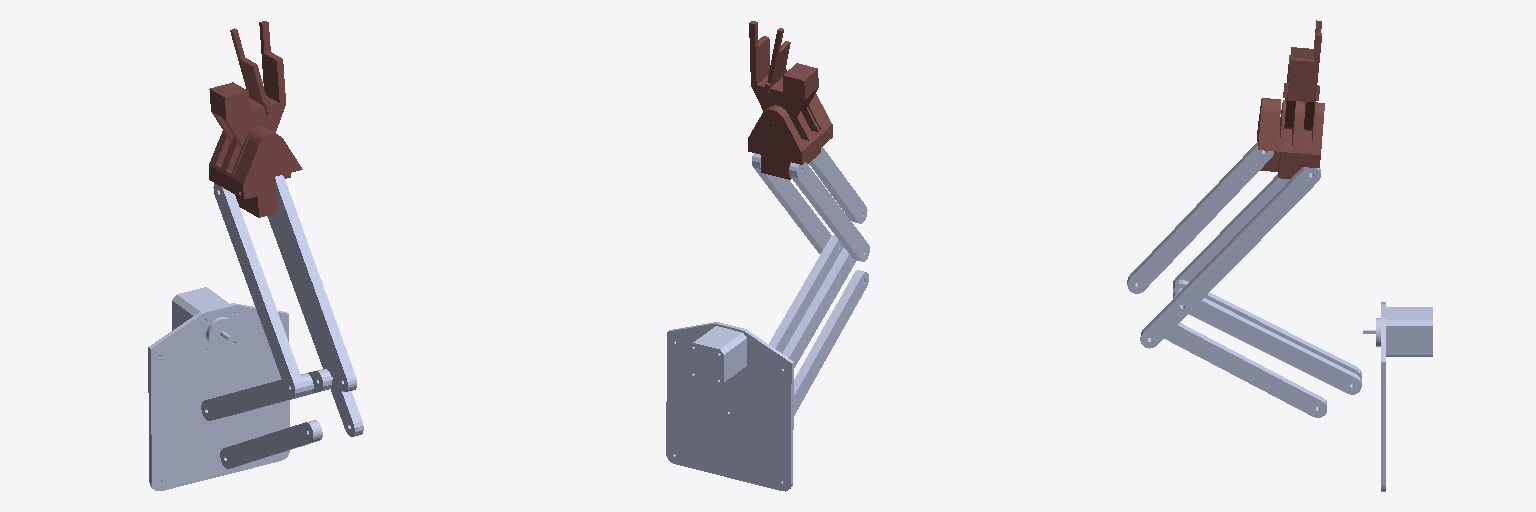
The robot description file, URDF, robot "ARM.SLDASM":
<?xml version="1.0" encoding="utf-8"?>
<!-- This URDF was automatically created by SolidWorks to URDF Exporter! Originally created by [author] ([email redacted]) 
     Commit Version: 1.6.0-4-g7f85cfe  Build Version: 1.6.7995.38578
     For more information, please see http://wiki.ros.org/sw_urdf_exporter -->
<robot
  name="ARM.SLDASM">
  <link
    name="base_link">
    <inertial>
      <origin
        xyz="0.065744341564924 0.0494910882181169 -0.045216580467112"
        rpy="0 0 0" />
      <mass
        value="0.207046380810351" />
      <inertia
        ixx="0.000296100160478882"
        ixy="4.14810054064923E-07"
        ixz="2.9650972706571E-09"
        iyy="0.000248571256331813"
        iyz="2.58760118757551E-11"
        izz="0.000510587496763238" />
    </inertial>
    <visual>
      <origin
        xyz="0 0 0"
        rpy="0 0 0" />
      <geometry>
        <mesh
          filename="package://ARM.SLDASM/meshes/base_link.STL" />
      </geometry>
      <material
        name="">
        <color
          rgba="0.792156862745098 0.819607843137255 0.933333333333333 1" />
      </material>
    </visual>
    <collision>
      <origin
        xyz="0 0 0"
        rpy="0 0 0" />
      <geometry>
        <mesh
          filename="package://ARM.SLDASM/meshes/base_link.STL" />
      </geometry>
    </collision>
  </link>
  <link
    name="Turning_base">
    <inertial>
      <origin
        xyz="-0.0267697026327348 0.00488148698796461 0.0222183347728628"
        rpy="0 0 0" />
      <mass
        value="0.19237125582213" />
      <inertia
        ixx="0.000135901413995399"
        ixy="-1.33820761853295E-06"
        ixz="2.84315818360693E-06"
        iyy="0.000156555561267971"
        iyz="2.6996128156746E-06"
        izz="0.000197919660234674" />
    </inertial>
    <visual>
      <origin
        xyz="0 0 0"
        rpy="0 0 0" />
      <geometry>
        <mesh
          filename="package://ARM.SLDASM/meshes/Turning_base.STL" />
      </geometry>
      <material
        name="">
        <color
          rgba="0.792156862745098 0.819607843137255 0.933333333333333 1" />
      </material>
    </visual>
    <collision>
      <origin
        xyz="0 0 0"
        rpy="0 0 0" />
      <geometry>
        <mesh
          filename="package://ARM.SLDASM/meshes/Turning_base.STL" />
      </geometry>
    </collision>
  </link>
  <joint
    name="J1"
    type="revolute">
    <origin
      xyz="0.06605 0.032302 0.014542"
      rpy="1.5708 -0.0040186 0" />
    <parent
      link="base_link" />
    <child
      link="Turning_base" />
    <axis
      xyz="0 0 -1" />
    <limit
      lower="0"
      upper="6.28"
      effort="0"
      velocity="0" />
  </joint>
  <link
    name="Lower_Backlink">
    <inertial>
      <origin
        xyz="0.0414635494994407 3.46944695195361E-18 0.00499999999999998"
        rpy="0 0 0" />
      <mass
        value="0.0193744467859455" />
      <inertia
        ixx="8.00416835228506E-07"
        ixy="-9.52912065661088E-22"
        ixz="4.55815036554347E-21"
        iyy="1.54913654040111E-05"
        iyz="1.31132591327248E-22"
        izz="1.59688747928072E-05" />
    </inertial>
    <visual>
      <origin
        xyz="0 0 0"
        rpy="0 0 0" />
      <geometry>
        <mesh
          filename="package://ARM.SLDASM/meshes/Lower_Backlink.STL" />
      </geometry>
      <material
        name="">
        <color
          rgba="0.792156862745098 0.819607843137255 0.933333333333333 1" />
      </material>
    </visual>
    <collision>
      <origin
        xyz="0 0 0"
        rpy="0 0 0" />
      <geometry>
        <mesh
          filename="package://ARM.SLDASM/meshes/Lower_Backlink.STL" />
      </geometry>
    </collision>
  </link>
  <joint
    name="J2"
    type="continuous">
    <origin
      xyz="-0.0225 -0.022855 0.065355"
      rpy="-1.5708 -1.046 1.5708" />
    <parent
      link="Turning_base" />
    <child
      link="Lower_Backlink" />
    <axis
      xyz="0 0 -1" />
  </joint>
  <link
    name="Link1">
    <inertial>
      <origin
        xyz="-5.21804821573824E-15 0.00500000000000492 -0.00999999999999942"
        rpy="0 0 0" />
      <mass
        value="0.085573794051045" />
      <inertia
        ixx="0.000328606447348668"
        ixy="1.45960717470861E-17"
        ixz="3.74845624985551E-22"
        iyy="3.53584860057504E-06"
        iyz="-2.1588614126044E-16"
        izz="0.000330716066048393" />
    </inertial>
    <visual>
      <origin
        xyz="0 0 0"
        rpy="0 0 0" />
      <geometry>
        <mesh
          filename="package://ARM.SLDASM/meshes/Link1.STL" />
      </geometry>
      <material
        name="">
        <color
          rgba="0.792156862745098 0.819607843137255 0.933333333333333 1" />
      </material>
    </visual>
    <collision>
      <origin
        xyz="0 0 0"
        rpy="0 0 0" />
      <geometry>
        <mesh
          filename="package://ARM.SLDASM/meshes/Link1.STL" />
      </geometry>
    </collision>
  </link>
  <joint
    name="J3"
    type="revolute">
    <origin
      xyz="-0.0275 0.058501 0.11312"
      rpy="1.5708 -0.50547 -1.5708" />
    <parent
      link="Turning_base" />
    <child
      link="Link1" />
    <axis
      xyz="0 0 -1" />
    <limit
      lower="0"
      upper="6.28"
      effort="0"
      velocity="0" />
  </joint>
  <link
    name="triangle">
    <inertial>
      <origin
        xyz="0.0128671162531901 0.0149668569116931 0.005"
        rpy="0 0 0" />
      <mass
        value="0.0191246861766035" />
      <inertia
        ixx="5.62289539865076E-06"
        ixy="2.73395813990835E-06"
        ixz="-1.63798820454671E-21"
        iyy="4.65318566936926E-06"
        iyz="1.77309574594121E-21"
        izz="9.95733629840997E-06" />
    </inertial>
    <visual>
      <origin
        xyz="0 0 0"
        rpy="0 0 0" />
      <geometry>
        <mesh
          filename="package://ARM.SLDASM/meshes/triangle.STL" />
      </geometry>
      <material
        name="">
        <color
          rgba="0.792156862745098 0.819607843137255 0.933333333333333 1" />
      </material>
    </visual>
    <collision>
      <origin
        xyz="0 0 0"
        rpy="0 0 0" />
      <geometry>
        <mesh
          filename="package://ARM.SLDASM/meshes/triangle.STL" />
      </geometry>
    </collision>
  </link>
  <joint
    name="J4"
    type="continuous">
    <origin
      xyz="0 0.105 -0.015"
      rpy="0 0 -0.13866" />
    <parent
      link="Link1" />
    <child
      link="triangle" />
    <axis
      xyz="0 0 1" />
  </joint>
  <link
    name="Upper_backlink">
    <inertial>
      <origin
        xyz="0.0414635494994406 1.07552855510562E-15 0.005"
        rpy="0 0 0" />
      <mass
        value="0.0193744467859455" />
      <inertia
        ixx="8.00416835228508E-07"
        ixy="4.2351647362715E-22"
        ixz="2.85427484424913E-21"
        iyy="1.54913654040111E-05"
        iyz="-5.92136022624789E-23"
        izz="1.59688747928072E-05" />
    </inertial>
    <visual>
      <origin
        xyz="0 0 0"
        rpy="0 0 0" />
      <geometry>
        <mesh
          filename="package://ARM.SLDASM/meshes/Upper_backlink.STL" />
      </geometry>
      <material
        name="">
        <color
          rgba="0.792156862745098 0.819607843137255 0.933333333333333 1" />
      </material>
    </visual>
    <collision>
      <origin
        xyz="0 0 0"
        rpy="0 0 0" />
      <geometry>
        <mesh
          filename="package://ARM.SLDASM/meshes/Upper_backlink.STL" />
      </geometry>
    </collision>
  </link>
  <joint
    name="J5"
    type="continuous">
    <origin
      xyz="0.045 0 0.02"
      rpy="-3.1416 0 -1.4128" />
    <parent
      link="triangle" />
    <child
      link="Upper_backlink" />
    <axis
      xyz="0 0 -1" />
  </joint>
  <link
    name="Upper_frontlink">
    <inertial>
      <origin
        xyz="0.0463904561233755 -6.26720897400901E-14 7.99429966669152E-14"
        rpy="0 0 0" />
      <mass
        value="0.0214124502395769" />
      <inertia
        ixx="8.8417413172566E-07"
        ixy="-2.26124180296804E-17"
        ixz="3.03487084681567E-17"
        iyy="2.08029877158262E-05"
        iyz="4.03015371553792E-22"
        izz="2.13302876768922E-05" />
    </inertial>
    <visual>
      <origin
        xyz="0 0 0"
        rpy="0 0 0" />
      <geometry>
        <mesh
          filename="package://ARM.SLDASM/meshes/Upper_frontlink.STL" />
      </geometry>
      <material
        name="">
        <color
          rgba="0.792156862745098 0.819607843137255 0.933333333333333 1" />
      </material>
    </visual>
    <collision>
      <origin
        xyz="0 0 0"
        rpy="0 0 0" />
      <geometry>
        <mesh
          filename="package://ARM.SLDASM/meshes/Upper_frontlink.STL" />
      </geometry>
    </collision>
  </link>
  <joint
    name="J6"
    type="continuous">
    <origin
      xyz="0 0.05 -0.005"
      rpy="-3.1416 0 -2.7921" />
    <parent
      link="triangle" />
    <child
      link="Upper_frontlink" />
    <axis
      xyz="0 0 -1" />
  </joint>
  <link
    name="Link2">
    <inertial>
      <origin
        xyz="4.44089209850063E-16 0.0186657789906809 0.0247054628952011"
        rpy="0 0 0" />
      <mass
        value="0.0953394410565643" />
      <inertia
        ixx="0.000470411650298866"
        ixy="3.36399135002045E-18"
        ixz="-2.06366020526793E-21"
        iyy="3.95014826174653E-06"
        iyz="-3.0937247350164E-16"
        izz="0.000472772807876336" />
    </inertial>
    <visual>
      <origin
        xyz="0 0 0"
        rpy="0 0 0" />
      <geometry>
        <mesh
          filename="package://ARM.SLDASM/meshes/Link2.STL" />
      </geometry>
      <material
        name="">
        <color
          rgba="0.792156862745098 0.819607843137255 0.933333333333333 1" />
      </material>
    </visual>
    <collision>
      <origin
        xyz="0 0 0"
        rpy="0 0 0" />
      <geometry>
        <mesh
          filename="package://ARM.SLDASM/meshes/Link2.STL" />
      </geometry>
    </collision>
  </link>
  <joint
    name="J7"
    type="revolute">
    <origin
      xyz="-0.10241 0.081825 0.01"
      rpy="3.1416 0 1.7933" />
    <parent
      link="Link1" />
    <child
      link="Link2" />
    <axis
      xyz="0 0 -1" />
    <limit
      lower="0"
      upper="6.28"
      effort="0"
      velocity="0" />
  </joint>
  <link
    name="Back_gripper">
    <inertial>
      <origin
        xyz="0.0289971473482062 0.0314301160957162 0.00141734074678128"
        rpy="0 0 0" />
      <mass
        value="1.53802958602338" />
      <inertia
        ixx="0.000909413538569684"
        ixy="8.2653399714243E-05"
        ixz="-2.76680034671545E-05"
        iyy="0.000912566548096114"
        iyz="-4.94357740447193E-05"
        izz="0.00115501581802408" />
    </inertial>
    <visual>
      <origin
        xyz="0 0 0"
        rpy="0 0 0" />
      <geometry>
        <mesh
          filename="package://ARM.SLDASM/meshes/Back_gripper.STL" />
      </geometry>
      <material
        name="">
        <color
          rgba="0.537254901960784 0.349019607843137 0.337254901960784 1" />
      </material>
    </visual>
    <collision>
      <origin
        xyz="0 0 0"
        rpy="0 0 0" />
      <geometry>
        <mesh
          filename="package://ARM.SLDASM/meshes/Back_gripper.STL" />
      </geometry>
    </collision>
  </link>
  <joint
    name="J8"
    type="continuous">
    <origin
      xyz="0.026092 -0.14287 0.022327"
      rpy="3.1416 0 2.2078" />
    <parent
      link="Link2" />
    <child
      link="Back_gripper" />
    <axis
      xyz="0 0 1" />
  </joint>
  <link
    name="Front_gripper">
    <inertial>
      <origin
        xyz="-0.000133634540354588 0.0283220187258271 0.015290063985935"
        rpy="0 0 0" />
      <mass
        value="0.558596679661737" />
      <inertia
        ixx="0.000309404274315498"
        ixy="-3.91459968046766E-05"
        ixz="3.65468624887358E-06"
        iyy="0.000256279098899188"
        iyz="8.07700601429682E-06"
        izz="0.00046459335100017" />
    </inertial>
    <visual>
      <origin
        xyz="0 0 0"
        rpy="0 0 0" />
      <geometry>
        <mesh
          filename="package://ARM.SLDASM/meshes/Front_gripper.STL" />
      </geometry>
      <material
        name="">
        <color
          rgba="0.537254901960784 0.349019607843137 0.337254901960784 1" />
      </material>
    </visual>
    <collision>
      <origin
        xyz="0 0 0"
        rpy="0 0 0" />
      <geometry>
        <mesh
          filename="package://ARM.SLDASM/meshes/Front_gripper.STL" />
      </geometry>
    </collision>
  </link>
  <joint
    name="J9"
    type="revolute">
    <origin
      xyz="0 0.01 0"
      rpy="1.5708 1.5515 -3.1416" />
    <parent
      link="Back_gripper" />
    <child
      link="Front_gripper" />
    <axis
      xyz="3.3649E-05 0 1" />
    <limit
      lower="0"
      upper="6.28"
      effort="0"
      velocity="0" />
  </joint>
  <link
    name="gripper">
    <inertial>
      <origin
        xyz="0.0309607104904639 -4.59355418676588E-05 0.0171444074906648"
        rpy="0 0 0" />
      <mass
        value="0.0686737389522784" />
      <inertia
        ixx="6.40644623542165E-06"
        ixy="-1.58915253529307E-10"
        ixz="3.10523081266725E-06"
        iyy="2.87092893917182E-05"
        iyz="3.68993537387662E-11"
        izz="2.25895985442529E-05" />
    </inertial>
    <visual>
      <origin
        xyz="0 0 0"
        rpy="0 0 0" />
      <geometry>
        <mesh
          filename="package://ARM.SLDASM/meshes/gripper.STL" />
      </geometry>
      <material
        name="">
        <color
          rgba="0.537254901960784 0.349019607843137 0.337254901960784 1" />
      </material>
    </visual>
    <collision>
      <origin
        xyz="0 0 0"
        rpy="0 0 0" />
      <geometry>
        <mesh
          filename="package://ARM.SLDASM/meshes/gripper.STL" />
      </geometry>
    </collision>
  </link>
  <joint
    name="J10"
    type="revolute">
    <origin
      xyz="0.012605 0.027445 -0.003"
      rpy="0 0 1.7772" />
    <parent
      link="Front_gripper" />
    <child
      link="gripper" />
    <axis
      xyz="0 3.28E-05 -1" />
    <limit
      lower="0"
      upper="6.28"
      effort="0"
      velocity="0" />
  </joint>
  <link
    name="lower_frontlink">
    <inertial>
      <origin
        xyz="0.0463904561233882 -6.08957329006898E-14 7.9956874454723E-14"
        rpy="0 0 0" />
      <mass
        value="0.0214124502395769" />
      <inertia
        ixx="8.84174131725664E-07"
        ixy="-2.25680017395088E-17"
        ixz="3.03403302313668E-17"
        iyy="2.08029877158262E-05"
        iyz="9.06223377333586E-23"
        izz="2.13302876768923E-05" />
    </inertial>
    <visual>
      <origin
        xyz="0 0 0"
        rpy="0 0 0" />
      <geometry>
        <mesh
          filename="package://ARM.SLDASM/meshes/lower_frontlink.STL" />
      </geometry>
      <material
        name="">
        <color
          rgba="0.792156862745098 0.819607843137255 0.933333333333333 1" />
      </material>
    </visual>
    <collision>
      <origin
        xyz="0 0 0"
        rpy="0 0 0" />
      <geometry>
        <mesh
          filename="package://ARM.SLDASM/meshes/lower_frontlink.STL" />
      </geometry>
    </collision>
  </link>
  <joint
    name="J11"
    type="continuous">
    <origin
      xyz="0.039 0.0575 -0.0074928"
      rpy="3.1416 0 0.62534" />
    <parent
      link="Back_gripper" />
    <child
      link="lower_frontlink" />
    <axis
      xyz="0 0 -1" />
  </joint>
</robot>

--- What the picture shows (computed from the rendered views, not written in the file) ---
The picture shows the robot from 3 angles, left to right: view 1: azimuth 30°, elevation 25°; view 2: azimuth 150°, elevation 25°; view 3: azimuth 270°, elevation 25°; orthographic projection.
Model ARM.SLDASM with 12 links and 11 joints (5 revolute, 6 continuous), rooted at base_link, posed all joints at 0.
Links seen in each view (by area): view 1: base_link, Link2, Back_gripper, Front_gripper, Link1, Upper_frontlink, lower_frontlink, Upper_backlink, gripper, Lower_Backlink; view 2: base_link, Link2, Back_gripper, Link1, Front_gripper, Upper_backlink, Upper_frontlink, Lower_Backlink, gripper; view 3: Link2, Link1, Back_gripper, base_link, Upper_frontlink, lower_frontlink, Lower_Backlink, Front_gripper, Upper_backlink.
Link boxes in pixels (x1,y1,x2,y2): base_link: (148,287,289,490); Link2: (213,183,363,436); Back_gripper: (209,127,302,217); Front_gripper: (209,21,285,148); Link1: (201,369,331,420); Upper_frontlink: (304,278,356,391); lower_frontlink: (275,175,319,286); Upper_backlink: (264,420,322,455); gripper: (230,28,272,115); Lower_Backlink: (220,436,272,468); base_link: (666,322,793,491); Link2: (752,153,869,261); Back_gripper: (748,93,832,179); Link1: (769,235,856,367); Front_gripper: (749,21,818,122); Upper_backlink: (817,270,868,353); Upper_frontlink: (820,164,867,223); Lower_Backlink: (794,340,828,415); gripper: (763,28,790,96); Link2: (1140,167,1320,348); Link1: (1173,280,1361,394); Back_gripper: (1257,98,1324,178); base_link: (1363,302,1432,491); Upper_frontlink: (1127,210,1207,293); lower_frontlink: (1193,142,1273,223); Lower_Backlink: (1238,358,1326,417); Front_gripper: (1284,33,1321,130); Upper_backlink: (1164,323,1246,376).
Bounding box of the posed robot: 0.1512 × 0.3146 × 0.4946 m (x, y, z).
10 mesh visuals loaded from 12 distinct referenced files (10 binary STL); not drawn: 2 (reference not matched to a file when rendering).